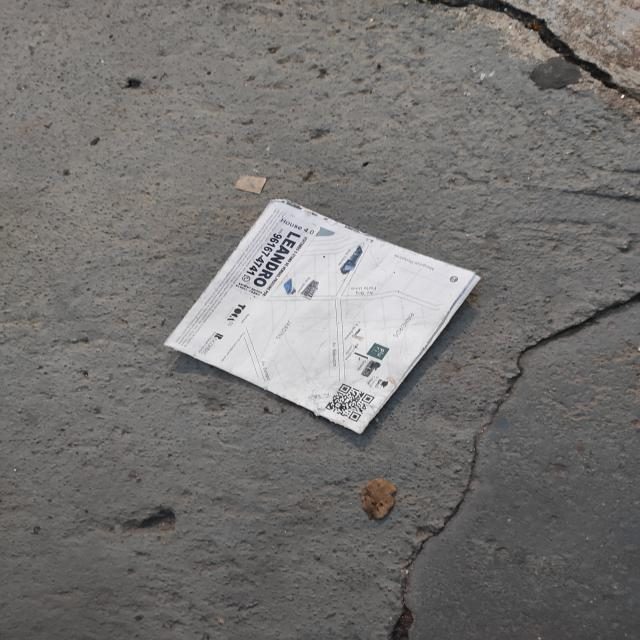qrcode: (327, 384, 376, 423)
